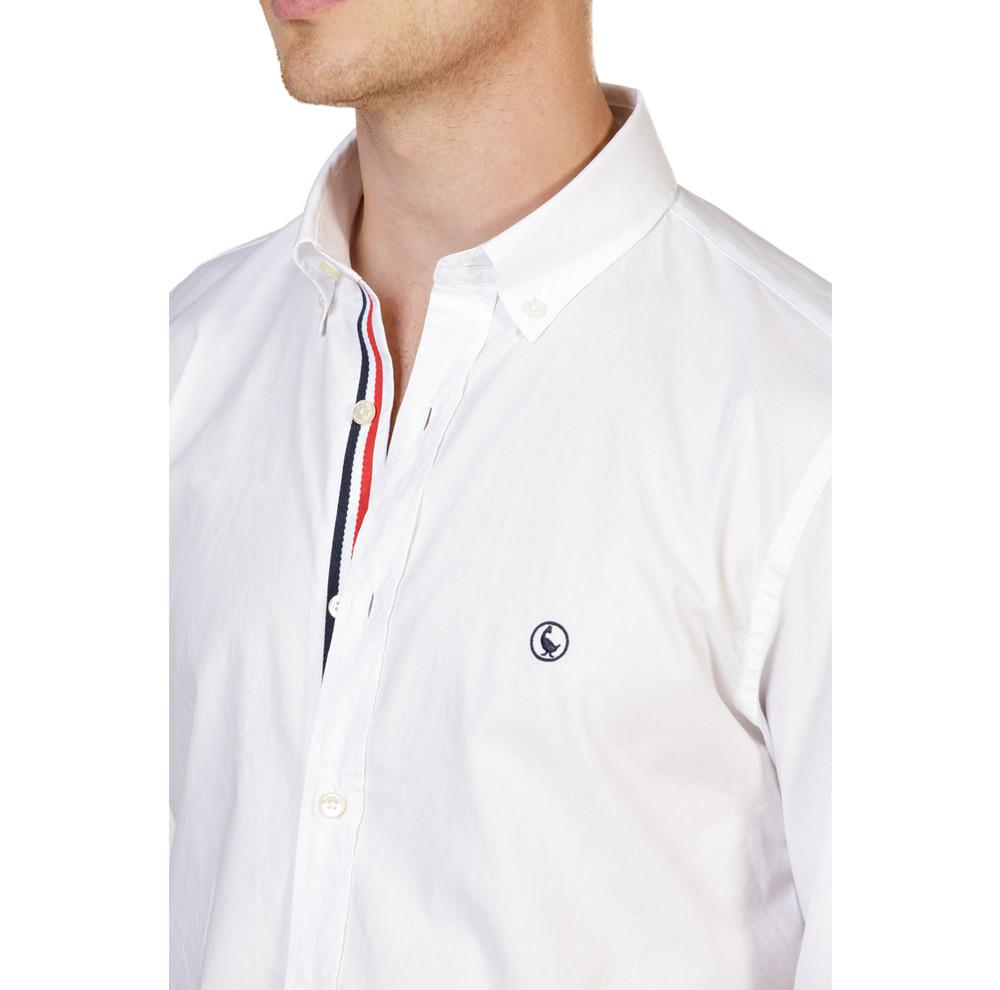teeshirt: (162, 84, 847, 990)
